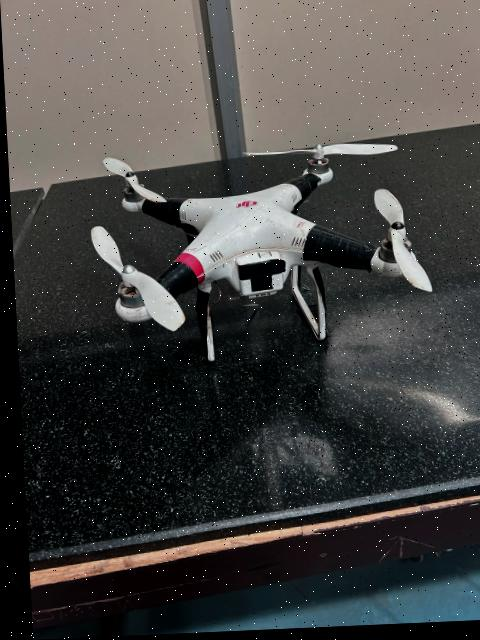drone: (58, 129, 448, 394)
